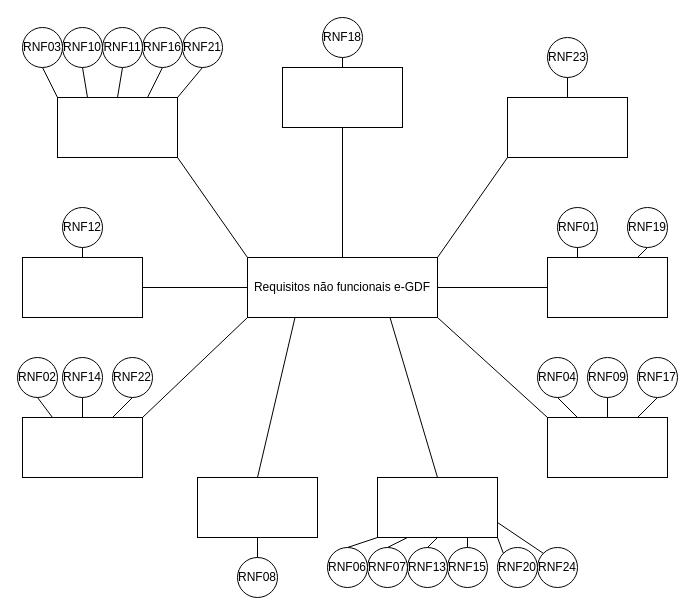
Image size: 695x615. Some labels were removed from this diagram. The shapes that lost their labels are listed below. From the top down, each one's centre as x and y in pixels, then its label:
(x=342, y=97): Aparência
(x=117, y=127): Usabilidade
(x=567, y=127): Autonomia
(x=82, y=287): Confiabilidade
(x=607, y=287): Compatibilidade
(x=82, y=447): Segurança
(x=607, y=447): Acessibilidade
(x=257, y=507): Responsividade
(x=437, y=507): Desempenho
